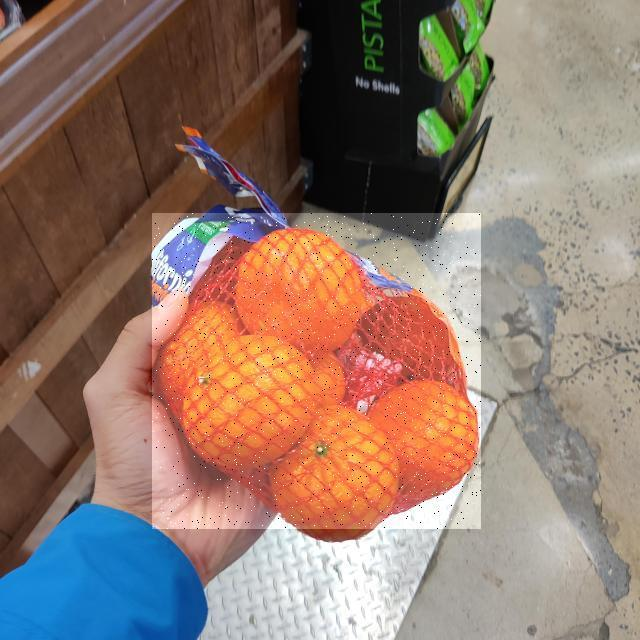Orange: (152, 213, 481, 529)
